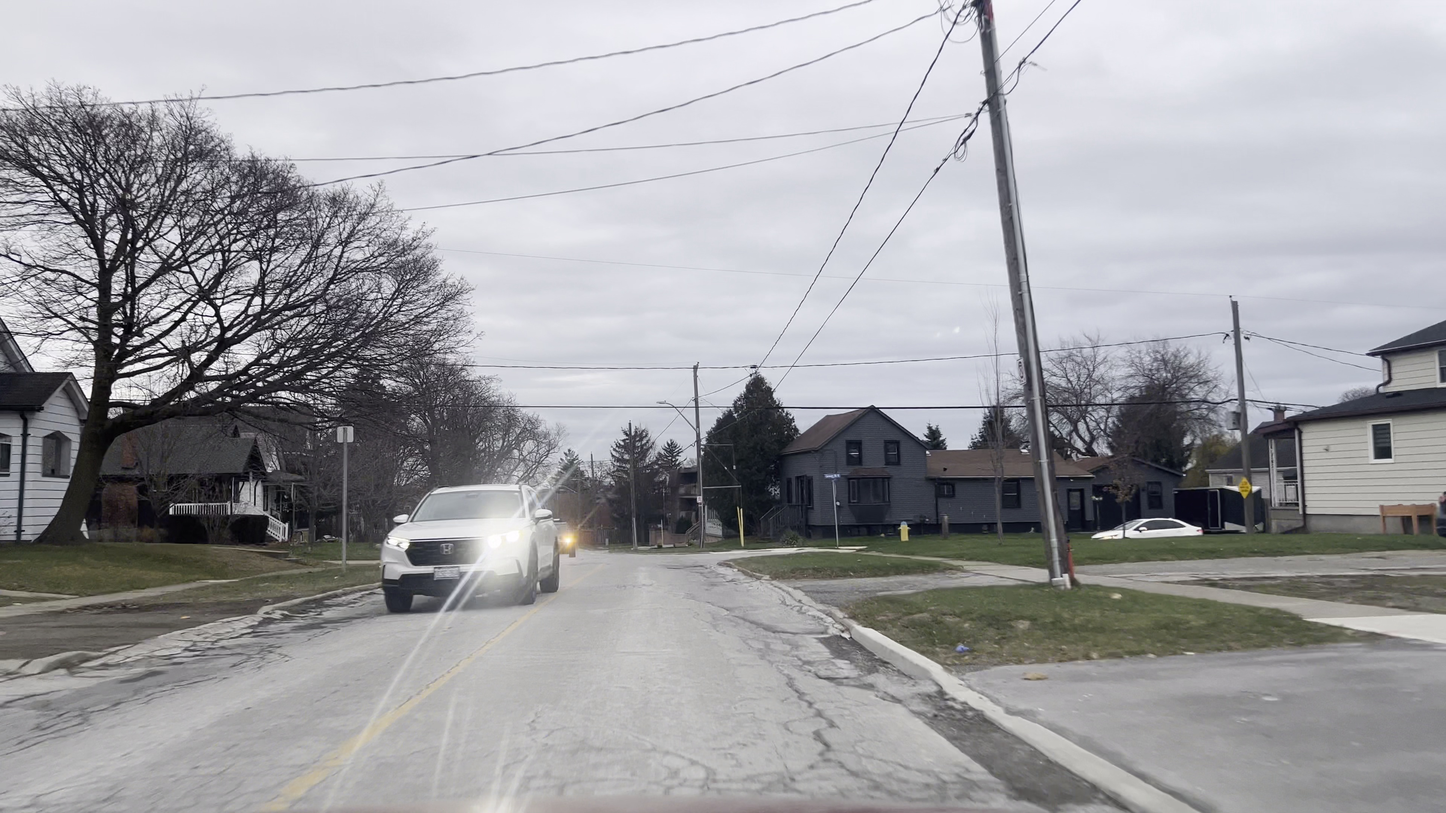cracks: (794, 694, 860, 792), (22, 699, 102, 749)
pothole: (931, 703, 1072, 797), (789, 634, 899, 685)
